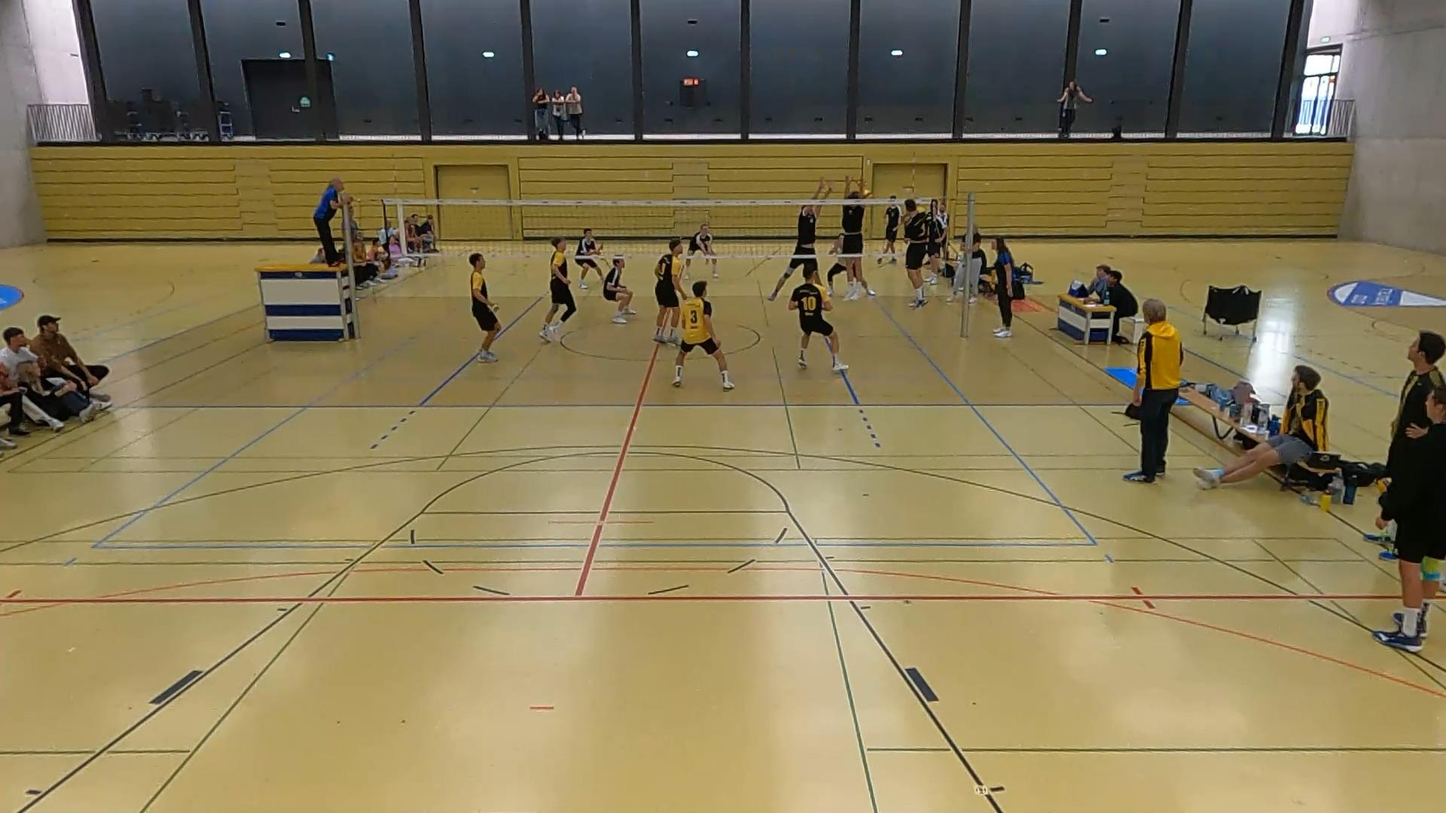Attack: (891, 196, 965, 313)
Block: (766, 177, 820, 305), (836, 173, 875, 305)
Player: (673, 281, 734, 389), (788, 271, 847, 373), (539, 237, 576, 341), (469, 253, 499, 362), (654, 238, 682, 343), (602, 255, 635, 324), (685, 222, 718, 277), (575, 228, 602, 289), (826, 233, 846, 296)
ball: (859, 184, 872, 205)
